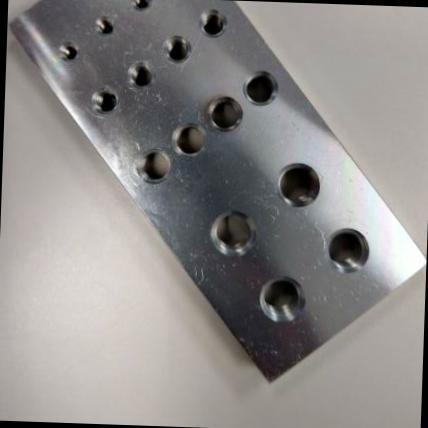hole: (208, 208, 258, 260), (255, 276, 307, 326), (321, 226, 371, 276), (272, 162, 320, 210), (133, 148, 172, 186), (240, 70, 278, 108), (205, 96, 243, 134), (169, 121, 206, 158), (124, 61, 156, 92), (160, 35, 191, 65), (197, 10, 227, 40), (88, 88, 120, 116), (55, 40, 79, 64), (93, 16, 115, 38), (128, 0, 152, 13)
